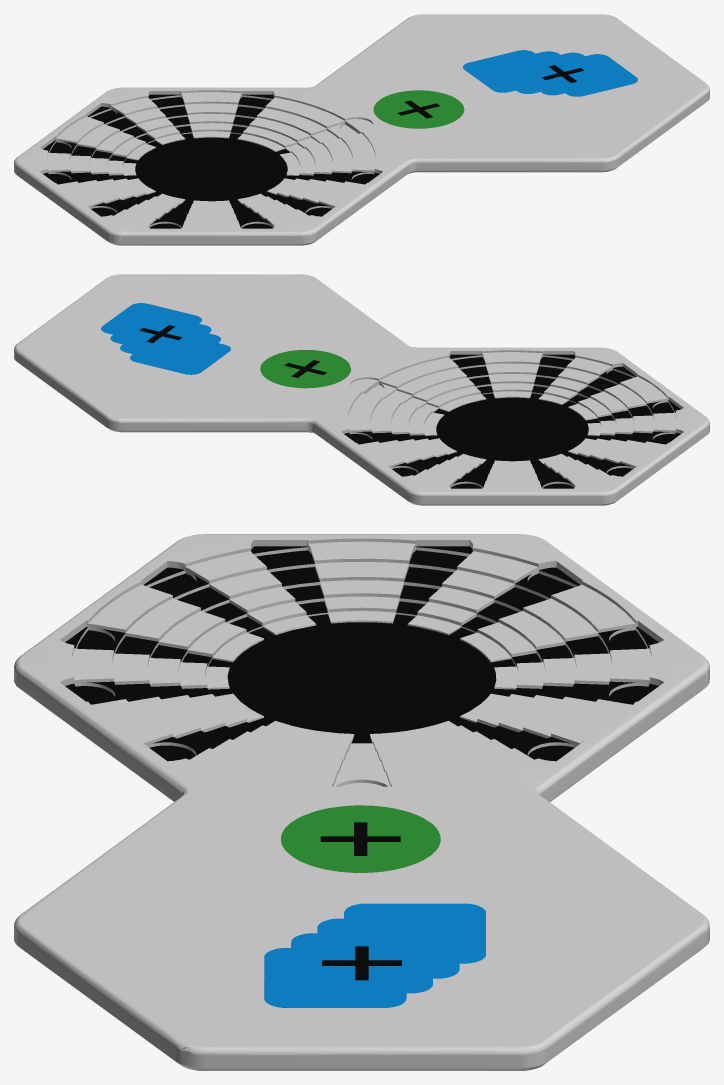
The model's file is mine-3.glb.
3 renders of one model, top to bottom at view 1: azimuth 30°, elevation 25°; view 2: azimuth 150°, elevation 25°; view 3: azimuth 270°, elevation 25°, orthographic. The views are drawn at different scales.
Parts seen in each view (by area): view 1: mine-3; view 2: mine-3; view 3: mine-3.
Part boxes in pixels (x1,y1,x2,y2): mine-3: (14, 14, 709, 245); mine-3: (14, 274, 709, 505); mine-3: (14, 534, 709, 1070).
Bounding box in the file's own units: 138 × 3 × 78.26.
